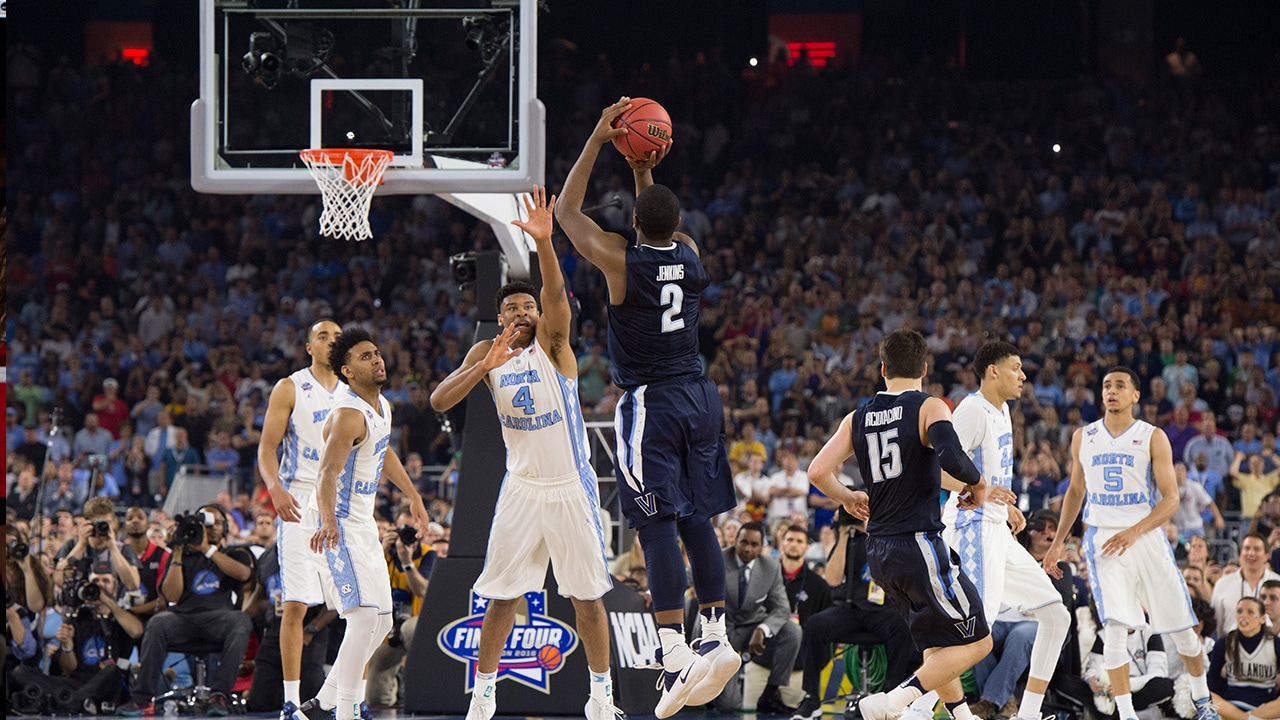basket: (284, 123, 407, 259)
defense: (429, 186, 622, 718)
shoot: (544, 86, 771, 720)
